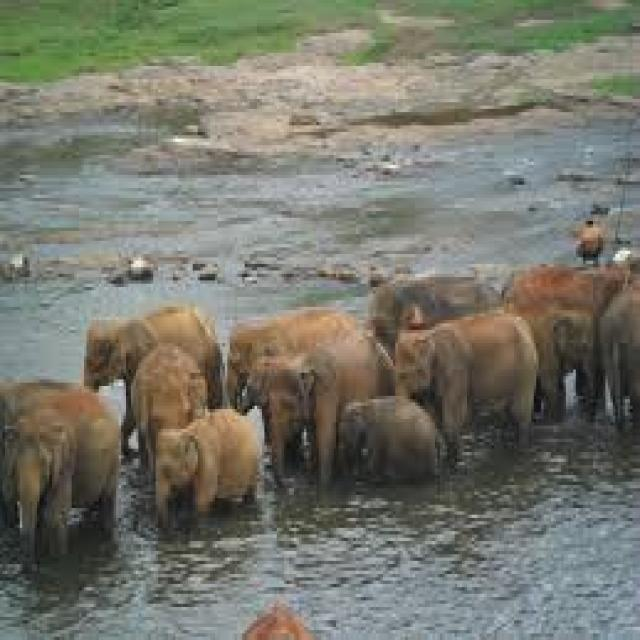Elephant: (0, 376, 119, 568), (393, 310, 539, 465), (81, 304, 222, 456), (225, 307, 358, 412), (153, 406, 262, 531), (128, 340, 208, 475), (336, 392, 437, 482), (598, 274, 638, 429)
